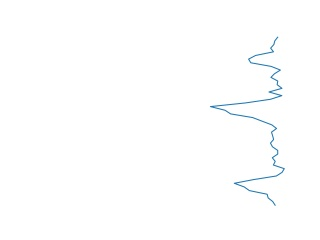underwaterNaturalLevee: (204, 35, 289, 208)
